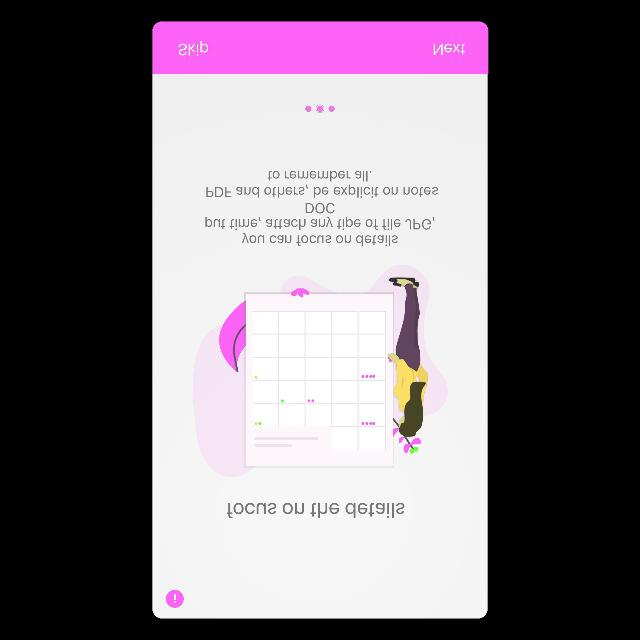icon: (166, 590, 184, 608)
image: (193, 264, 449, 478)
pageindicator: (306, 105, 336, 114)
text: (206, 170, 438, 246), (227, 502, 406, 518), (178, 40, 210, 56), (434, 43, 466, 55)
